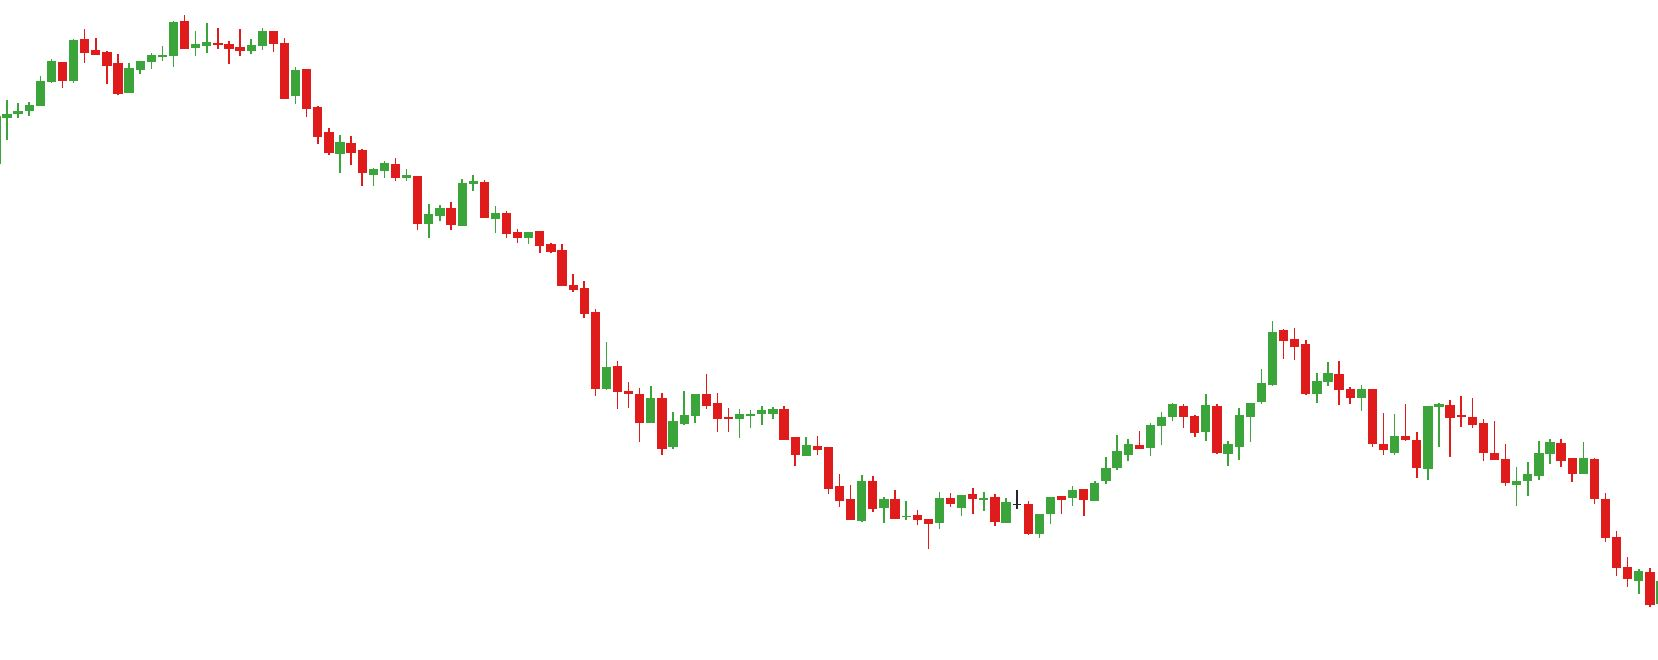sell: (68, 17, 192, 76)
